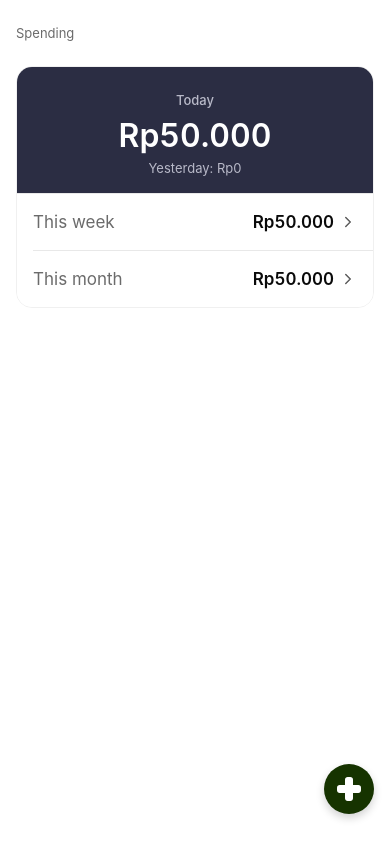
Test case: HomeScreen › shows formatted totals, comparisons, and expenses in breakdown for seeded data
Expected: the 1st text "Rp50.000" is shown, left=118, top=117, right=272, bottom=155
Expected: the text "Yesterday: Rp0" is shown, left=148, top=159, right=242, bottom=177
Click the button with aria-label "Today, Rp50.000 spent, higher than yesterday": (195, 130) left=17, top=67, right=373, bottom=193
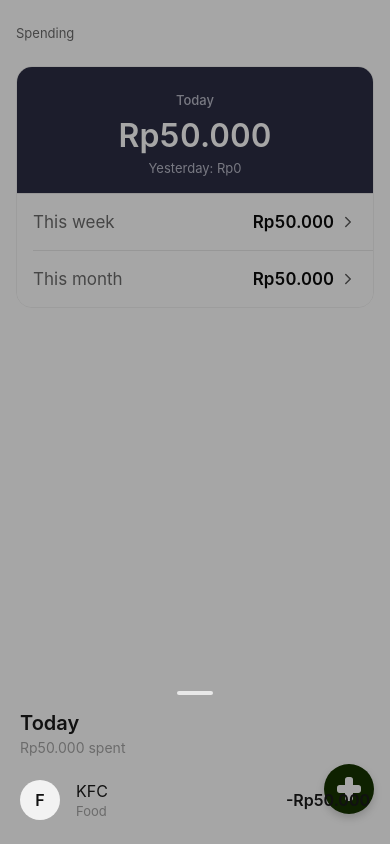
Result: the text "KFC" is shown at left=76, top=781, right=108, bottom=801
Result: the text "-Rp50.000" is shown at left=286, top=790, right=370, bottom=810
